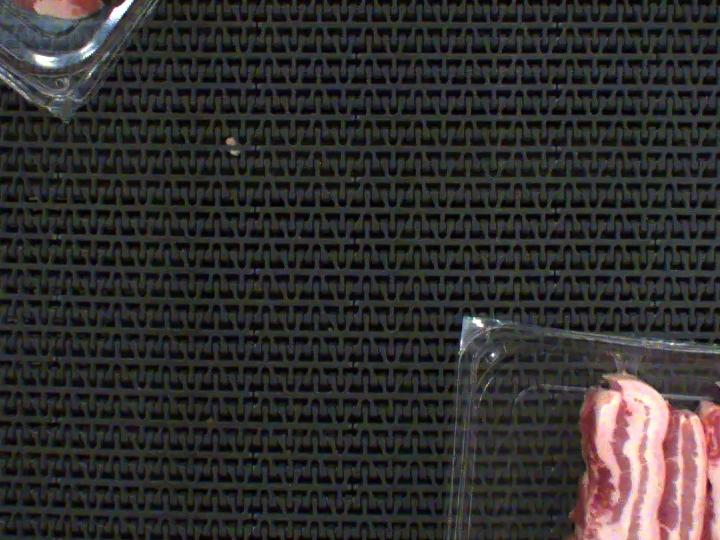packaging-error: (607, 347, 641, 380)
